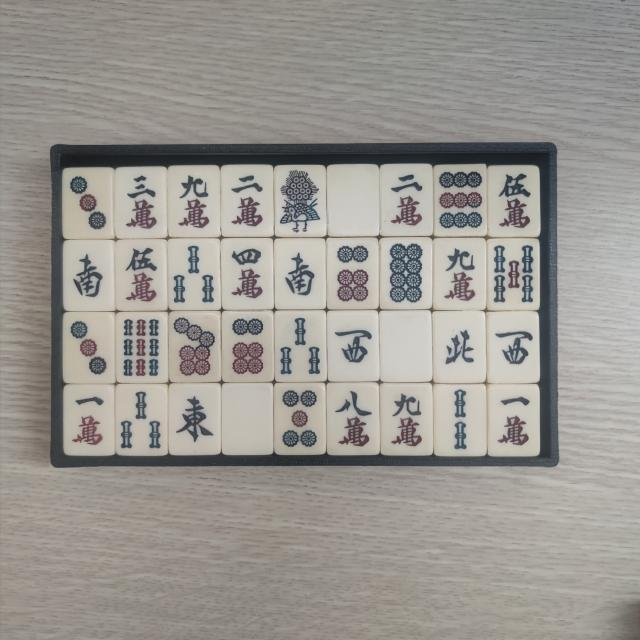hdw: (332, 170, 376, 232), (386, 317, 429, 379), (227, 390, 269, 451)
hwe: (173, 390, 214, 452)
hwn: (436, 317, 479, 380)
hws: (279, 246, 321, 306), (68, 246, 109, 307)
hww: (332, 317, 376, 379), (491, 318, 535, 380)
sb1: (278, 170, 323, 237)
sb2: (439, 386, 482, 453)
sb3: (174, 244, 220, 308), (120, 389, 164, 452), (280, 316, 324, 379)
sb5: (492, 244, 538, 308)
sb9: (120, 316, 163, 379)
sc1: (494, 388, 536, 451), (68, 390, 108, 451)
sc2: (386, 168, 429, 231), (226, 168, 269, 231)
sc3: (120, 172, 162, 234)
sc4: (227, 243, 270, 306)
sc5: (492, 169, 535, 232), (121, 244, 163, 306)
sc8: (331, 388, 376, 450)
sc9: (438, 245, 481, 308), (386, 388, 428, 452), (174, 169, 216, 232)
sd3: (68, 318, 112, 381), (67, 171, 111, 233)
sd5: (278, 388, 321, 451)
sd6: (332, 243, 375, 306), (228, 316, 270, 378)
sd7: (172, 316, 217, 380)
sd8: (386, 241, 428, 306)
sd9: (437, 170, 483, 234)
